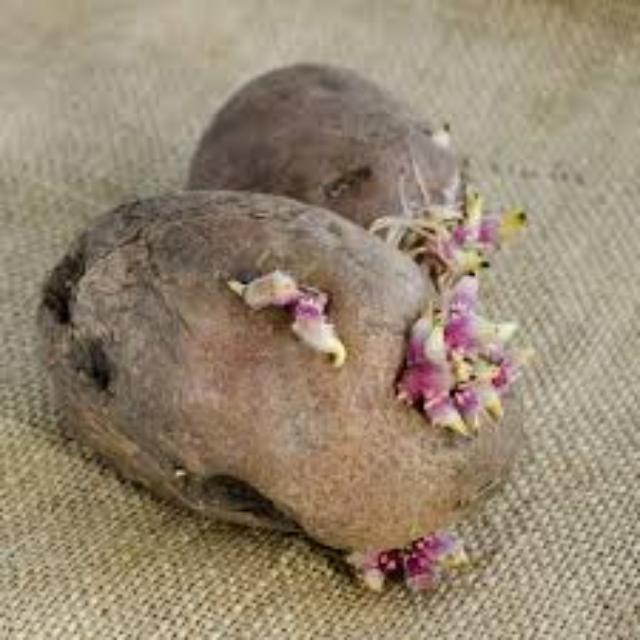Sprouted potato: (31, 185, 523, 571), (184, 57, 492, 267)
